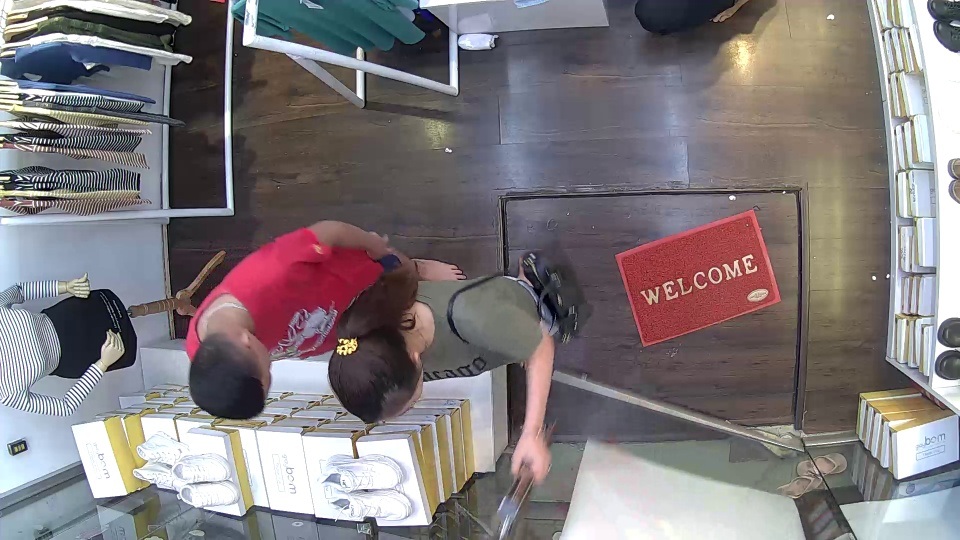topviewhead: (323, 321, 434, 428), (183, 328, 279, 423)
